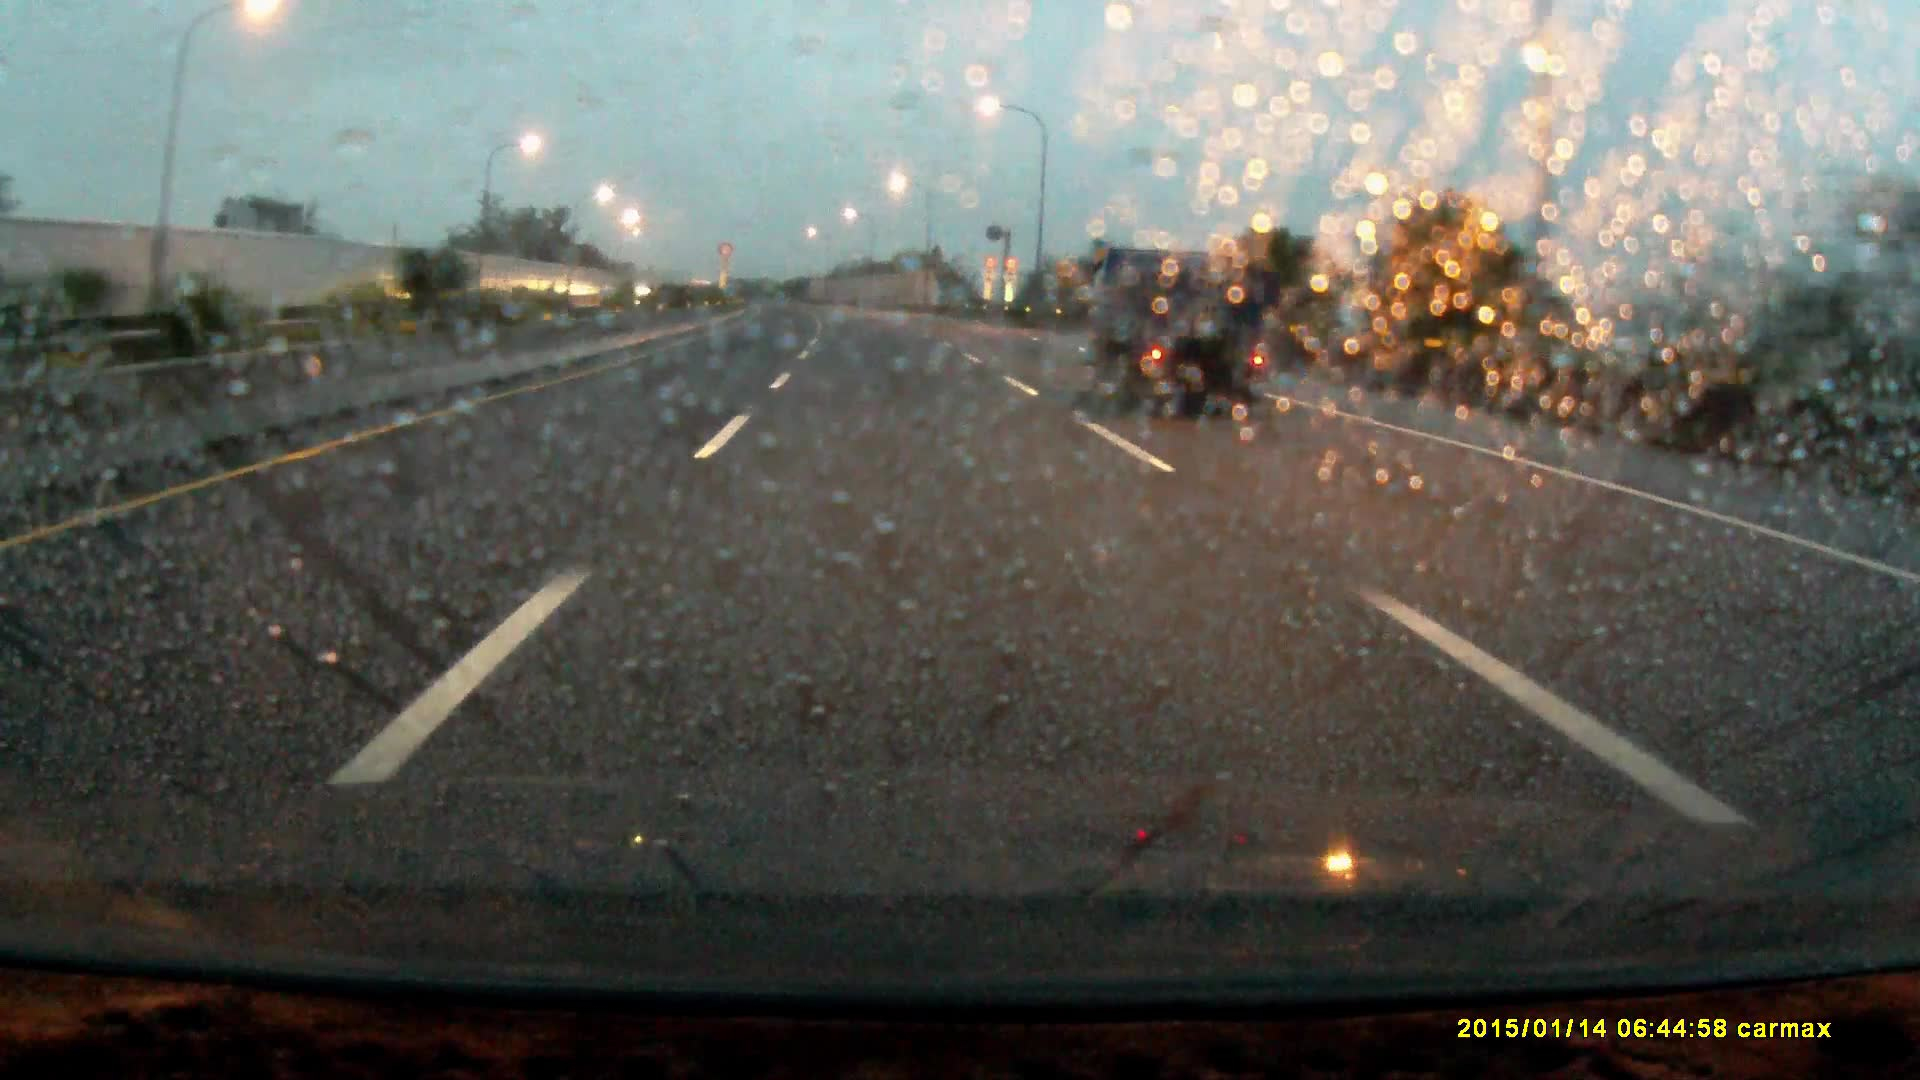vehicle: (1081, 245, 1267, 411)
